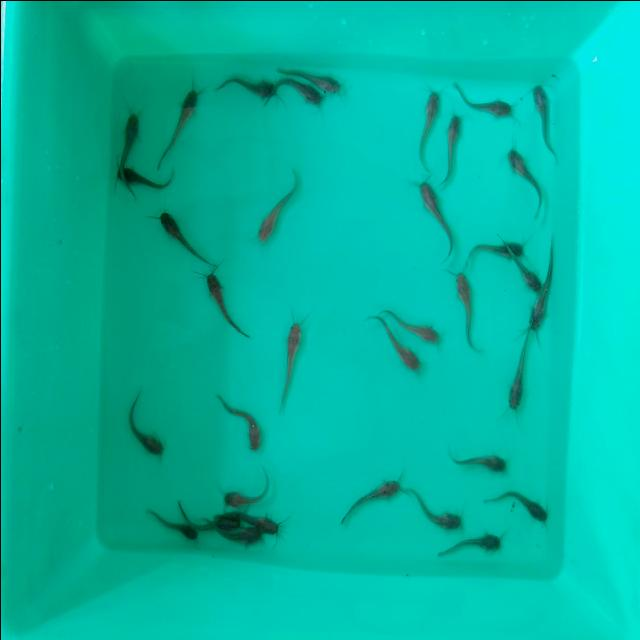lele: (204, 273, 254, 337), (122, 396, 168, 462), (163, 82, 206, 152), (106, 103, 138, 191), (258, 174, 296, 246), (454, 268, 484, 358), (216, 399, 264, 453), (416, 178, 454, 245), (160, 209, 207, 261), (491, 482, 549, 524), (392, 302, 448, 344), (506, 146, 542, 210), (530, 242, 554, 336), (436, 534, 502, 568), (344, 473, 400, 513), (408, 489, 462, 527), (216, 70, 279, 102), (274, 80, 324, 120), (142, 511, 200, 544), (376, 323, 418, 368), (449, 446, 512, 476), (224, 466, 268, 508), (530, 79, 556, 150), (459, 88, 516, 120), (417, 86, 439, 167), (281, 318, 302, 400), (120, 163, 180, 190), (298, 62, 352, 92), (511, 323, 529, 413), (463, 238, 525, 264), (182, 504, 240, 530), (509, 249, 543, 293), (442, 108, 461, 180), (217, 526, 256, 550), (246, 508, 284, 532)
